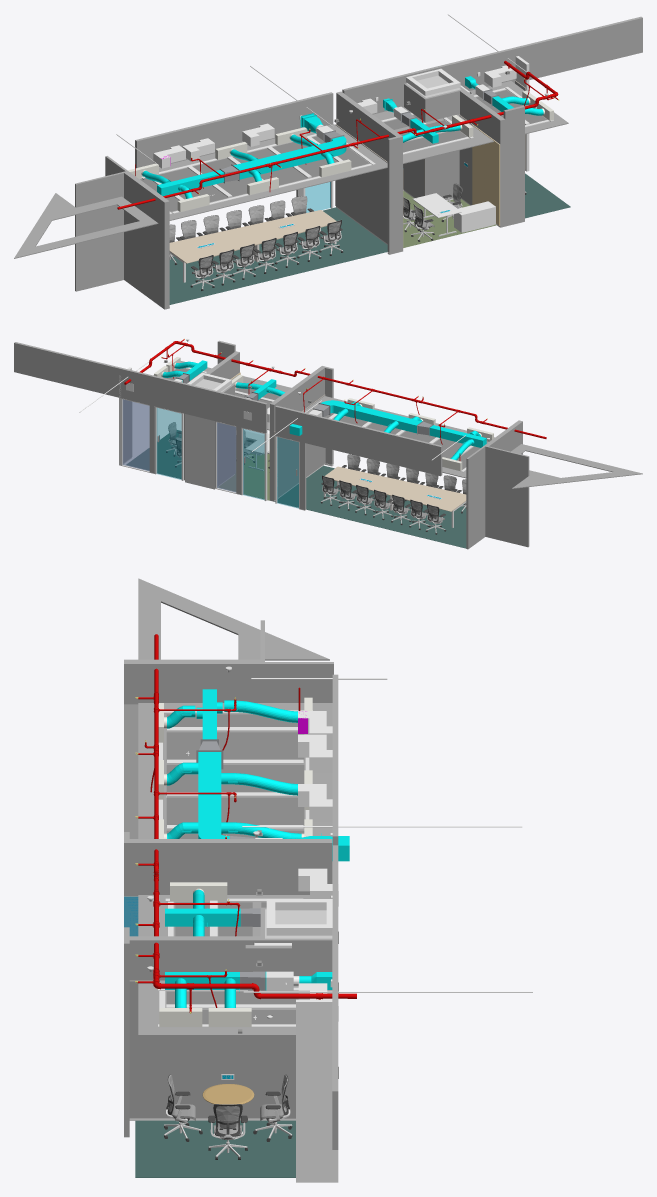
3 views of the same model, one above another, from view 1: azimuth 30°, elevation 25°; view 2: azimuth 150°, elevation 25°; view 3: azimuth 270°, elevation 25° (orthographic). The views are drawn at different scales.
Visible parts, largest first — view 1: 1Wj_k0YefBsQjVojylQTnX, 3KnkE$DUfEKhfbEgdW7oie, 25Y5P6uCr2iwIwphR2oq21, 25Y5P6uCr2iwIwphR2oq4N, 25Y5P6uCr2iwIwphR2orSj, 25Y5P6uCr2iwIwphR2orT2, 1r1ZCd7bTBPu_bVMyxS38K, 25Y5P6uCr2iwIwphR2orT1, 25Y5P6uCr2iwIwphR2orT3, 25Y5P6uCr2iwIwphR2orT0, 25Y5P6uCr2iwIwphR2oq5B, 25Y5P6uCr2iwIwphR2opx8 (+35 smaller); view 2: 25Y5P6uCr2iwIwphR2oq4N, 25Y5P6uCr2iwIwphR2oq5B, 3KnkE$DUfEKhfbEgdW7oie, 25Y5P6uCr2iwIwphR2orSj, 25Y5P6uCr2iwIwphR2oq21, 1r1ZCd7bTBPu_bVMyxS38K, 2UYT3Lm216c85aT4xHdMPR, 1Wj_k0YefBsQjVojylQTnX, 25Y5P6uCr2iwIwphR2oq3B, 25Y5P6uCr2iwIwphR2orSY, 25Y5P6uCr2iwIwphR2orT1, 25Y5P6uCr2iwIwphR2oq2d (+25 smaller); view 3: 1Wj_k0YefBsQjVojylQTnX, 25Y5P6uCr2iwIwphR2orT1, 3KnkE$DUfEKhfbEgdW7oiu, 25Y5P6uCr2iwIwphR2orEP, 25Y5P6uCr2iwIwphR2oq03, 25Y5P6uCr2iwIwphR2orT2, 25Y5P6uCr2iwIwphR2orT0, 25Y5P6uCr2iwIwphR2oq01, 1Wj_k0YefBsQjVojylQTTP, 1Wj_k0YefBsQjVojylQTTB, 25Y5P6uCr2iwIwphR2orSY, 25Y5P6uCr2iwIwphR2orSu (+21 smaller).
Part boxes in pixels (left/top/right/bottom): 1Wj_k0YefBsQjVojylQTnX: left=14, top=81, right=568, bottom=258; 3KnkE$DUfEKhfbEgdW7oie: left=169, top=207, right=387, bottom=304; 25Y5P6uCr2iwIwphR2oq21: left=446, top=16, right=642, bottom=90; 25Y5P6uCr2iwIwphR2oq4N: left=135, top=92, right=333, bottom=196; 25Y5P6uCr2iwIwphR2orSj: left=75, top=171, right=128, bottom=291; 25Y5P6uCr2iwIwphR2orT2: left=124, top=172, right=169, bottom=309; 1r1ZCd7bTBPu_bVMyxS38K: left=169, top=210, right=336, bottom=263; 25Y5P6uCr2iwIwphR2orT1: left=336, top=91, right=402, bottom=252; 25Y5P6uCr2iwIwphR2orT3: left=503, top=105, right=524, bottom=226; 25Y5P6uCr2iwIwphR2orT0: left=460, top=90, right=505, bottom=227; 25Y5P6uCr2iwIwphR2oq5B: left=342, top=42, right=539, bottom=114; 25Y5P6uCr2iwIwphR2opx8: left=424, top=114, right=459, bottom=199; 25Y5P6uCr2iwIwphR2oq4N: left=275, top=405, right=442, bottom=509; 25Y5P6uCr2iwIwphR2oq5B: left=100, top=363, right=267, bottom=494; 3KnkE$DUfEKhfbEgdW7oie: left=274, top=465, right=466, bottom=548; 25Y5P6uCr2iwIwphR2orSj: left=484, top=445, right=529, bottom=547; 25Y5P6uCr2iwIwphR2oq21: left=14, top=342, right=180, bottom=473; 1r1ZCd7bTBPu_bVMyxS38K: left=325, top=466, right=466, bottom=511; 2UYT3Lm216c85aT4xHdMPR: left=185, top=379, right=231, bottom=489; 1Wj_k0YefBsQjVojylQTnX: left=153, top=361, right=642, bottom=488; 25Y5P6uCr2iwIwphR2oq3B: left=122, top=399, right=149, bottom=471; 25Y5P6uCr2iwIwphR2orSY: left=466, top=446, right=485, bottom=549; 25Y5P6uCr2iwIwphR2orT1: left=270, top=366, right=325, bottom=501; 25Y5P6uCr2iwIwphR2oq2d: left=157, top=408, right=181, bottom=479; 1Wj_k0YefBsQjVojylQTnX: left=138, top=578, right=332, bottom=1036; 25Y5P6uCr2iwIwphR2orT1: left=124, top=839, right=332, bottom=896; 3KnkE$DUfEKhfbEgdW7oiu: left=135, top=1120, right=295, bottom=1177; 25Y5P6uCr2iwIwphR2orEP: left=296, top=999, right=338, bottom=1182; 25Y5P6uCr2iwIwphR2oq03: left=129, top=980, right=198, bottom=1118; 25Y5P6uCr2iwIwphR2orT2: left=124, top=659, right=260, bottom=704; 25Y5P6uCr2iwIwphR2orT0: left=129, top=936, right=260, bottom=980; 25Y5P6uCr2iwIwphR2oq01: left=198, top=1036, right=267, bottom=1118; 1Wj_k0YefBsQjVojylQTTP: left=166, top=732, right=304, bottom=760; 1Wj_k0YefBsQjVojylQTTB: left=166, top=797, right=304, bottom=826; 25Y5P6uCr2iwIwphR2orSY: left=265, top=662, right=333, bottom=702; 25Y5P6uCr2iwIwphR2orSu: left=260, top=938, right=332, bottom=975.
Size of the model in its own units: 23.31 by 3.81 by 7.13.
